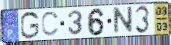3: (134, 5, 154, 35), (67, 10, 84, 37)
6: (87, 7, 107, 37)
C: (40, 10, 60, 38)
G: (19, 10, 40, 40)
N: (112, 5, 134, 36)
